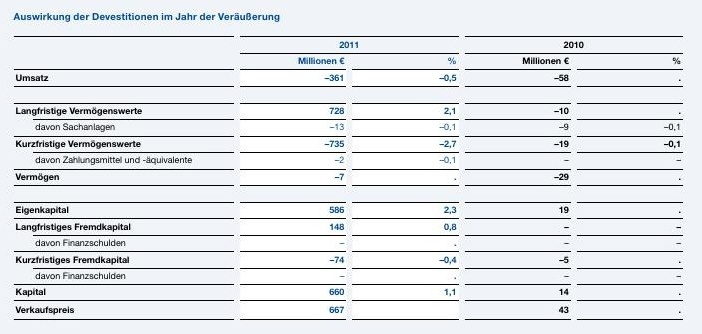table: (0, 0, 702, 334)
